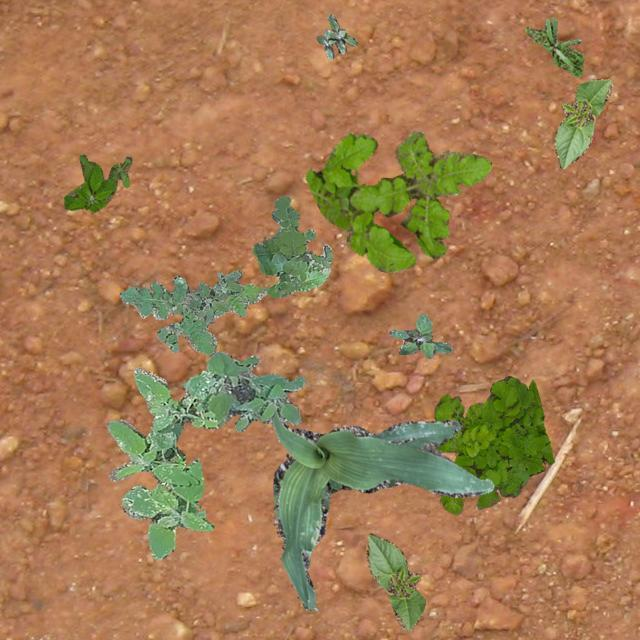crop: (270, 410, 492, 610), (366, 532, 424, 630), (554, 78, 612, 168)
weed: (304, 130, 490, 272), (106, 366, 217, 558), (432, 374, 554, 514), (119, 274, 268, 354), (180, 349, 304, 432), (252, 195, 332, 298), (64, 154, 130, 212), (524, 16, 584, 76), (182, 270, 242, 322), (388, 313, 451, 357), (314, 14, 356, 58)
